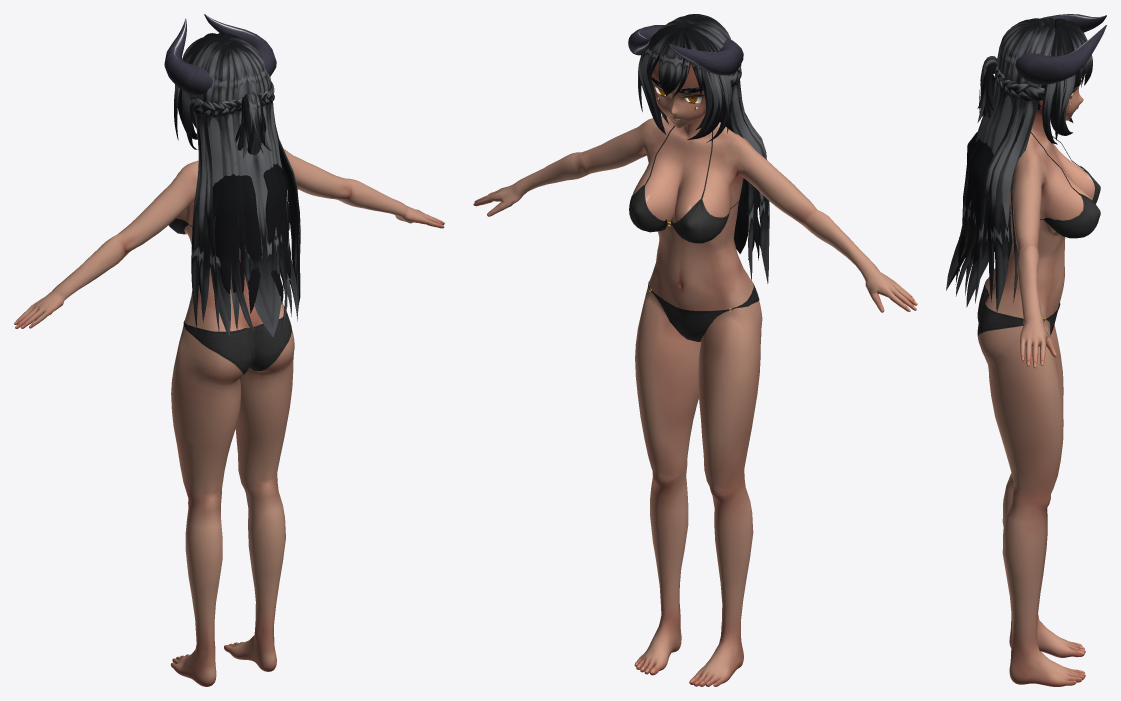
The picture shows the model from 3 angles, left to right: view 1: azimuth 30°, elevation 25°; view 2: azimuth 150°, elevation 25°; view 3: azimuth 270°, elevation 25°; orthographic projection. The views are drawn at different scales.
Parts seen in each view (by area): view 1: skin.001, Hair_HairR, Mizugi_01, Hat, Hair_HairF; view 2: skin.001, Hair_HairF, Hair_HairR, Mizugi_01, Hat, Face_Skin; view 3: skin.001, Hair_HairR, Hair_HairF, Hat, Mizugi_01, Face_Skin.
Part boxes in pixels (left/top/right/bottom): skin.001: left=14, top=149, right=444, bottom=686; Hair_HairR: left=189, top=36, right=300, bottom=338; Mizugi_01: left=168, top=218, right=291, bottom=374; Hat: left=164, top=14, right=276, bottom=94; Hair_HairF: left=174, top=33, right=242, bottom=149; skin.001: left=473, top=113, right=917, bottom=686; Hair_HairF: left=638, top=24, right=732, bottom=142; Hair_HairR: left=657, top=14, right=769, bottom=283; Mizugi_01: left=629, top=184, right=759, bottom=341; Hat: left=628, top=25, right=743, bottom=75; Face_Skin: left=651, top=60, right=705, bottom=128; skin.001: left=978, top=106, right=1094, bottom=686; Hair_HairR: left=946, top=17, right=1055, bottom=312; Hair_HairF: left=1042, top=18, right=1092, bottom=144; Hat: left=1015, top=14, right=1106, bottom=84; Mizugi_01: left=977, top=166, right=1100, bottom=338; Face_Skin: left=1039, top=77, right=1083, bottom=120.
Size of the model in its own units: 1332 by 1870 by 421.
